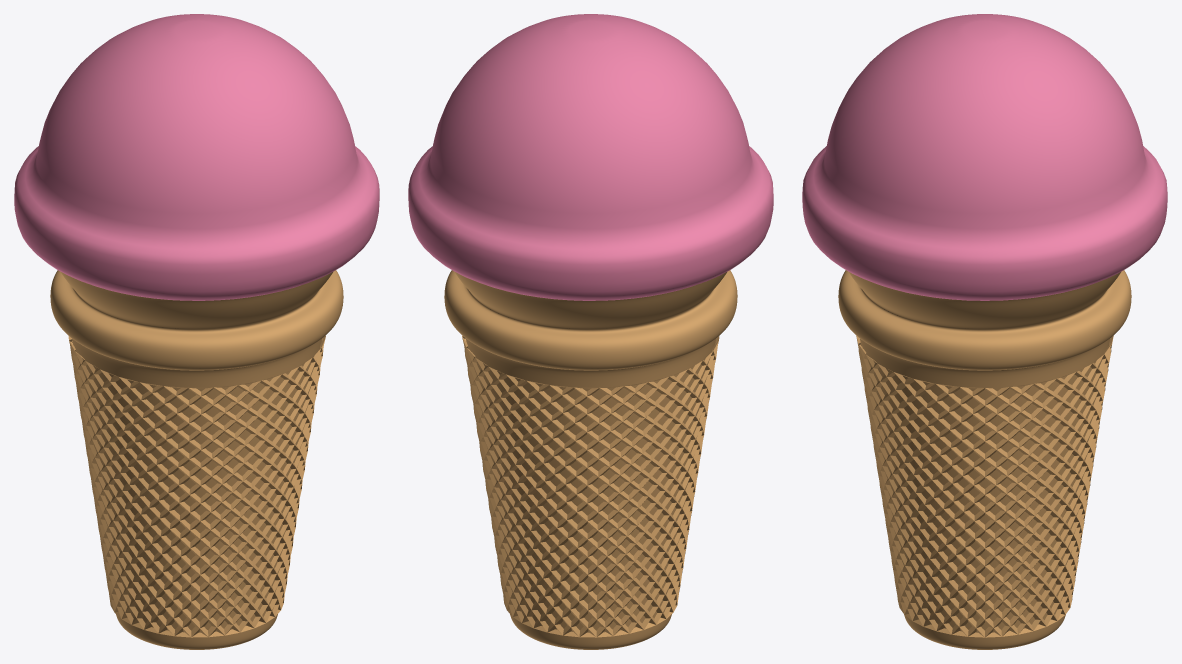
File: ice cream.glb
The picture shows the model from 3 angles, left to right: view 1: azimuth 30°, elevation 25°; view 2: azimuth 150°, elevation 25°; view 3: azimuth 270°, elevation 25°; orthographic projection.
Visible parts, largest first — view 1: Sphere, Cylinder; view 2: Sphere, Cylinder; view 3: Sphere, Cylinder.
Part boxes in pixels (box(x1,y1,x2,y2)): Sphere: box(14, 14, 379, 300); Cylinder: box(50, 270, 343, 649); Sphere: box(408, 14, 773, 300); Cylinder: box(444, 270, 737, 649); Sphere: box(802, 14, 1167, 300); Cylinder: box(838, 270, 1131, 649).
Size of the model in its own units: 4.94 by 8.79 by 4.94.
